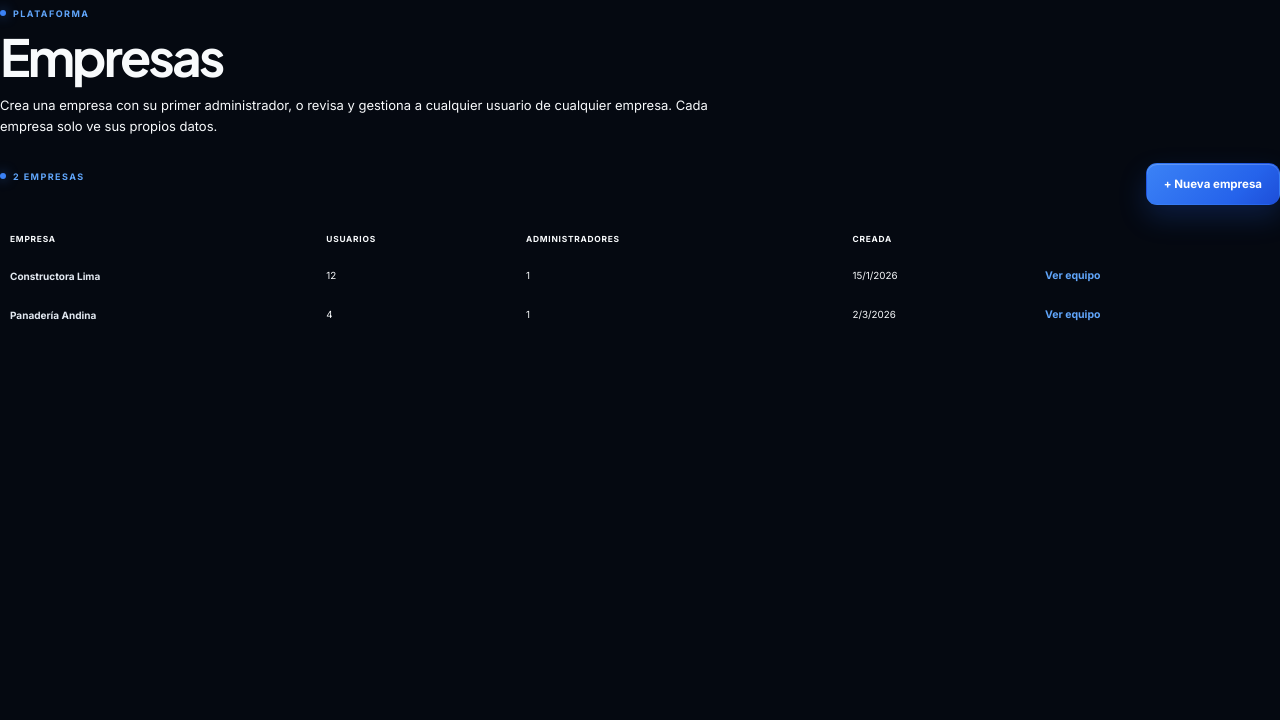
Test: Panel del superadministrador › muestra un estado vacío cuando la empresa todavía no tiene usuarios
Click the button "Ver equipo" in the row of "Panadería Andina".
click(1073, 315)  # box [1039, 307, 1106, 322]
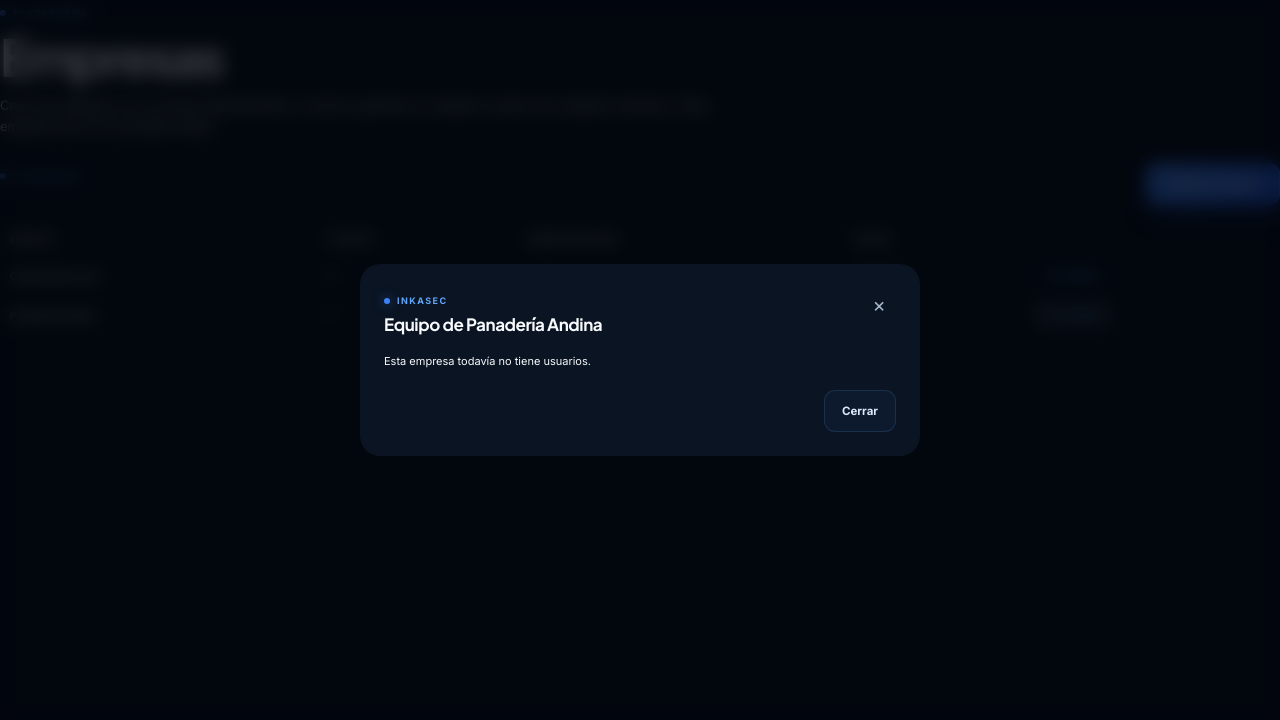
expect the text "Esta empresa todavía no tiene usuarios." is shown: met, box [384, 354, 591, 368]
